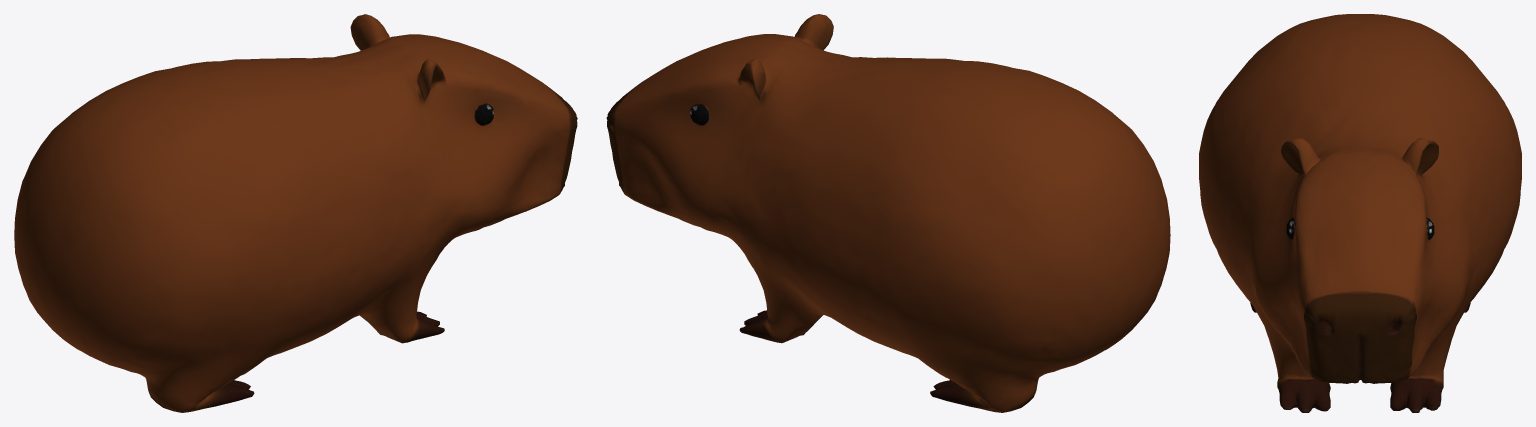
3 renders of one model, left to right at view 1: azimuth 30°, elevation 25°; view 2: azimuth 150°, elevation 25°; view 3: azimuth 270°, elevation 25°, orthographic.
Visible parts, largest first — view 1: tripo_node_26a56836-9fdc-4e87-bf6e-d53eaa0d427c; view 2: tripo_node_26a56836-9fdc-4e87-bf6e-d53eaa0d427c; view 3: tripo_node_26a56836-9fdc-4e87-bf6e-d53eaa0d427c.
Part boxes in pixels (x1,y1,x2,y2): tripo_node_26a56836-9fdc-4e87-bf6e-d53eaa0d427c: [14, 14, 577, 412]; tripo_node_26a56836-9fdc-4e87-bf6e-d53eaa0d427c: [606, 14, 1170, 412]; tripo_node_26a56836-9fdc-4e87-bf6e-d53eaa0d427c: [1199, 14, 1521, 412].
Size of the model in its own units: 0.998 by 0.5098 by 0.541.
Materials: 1 (1 with a texture image).
